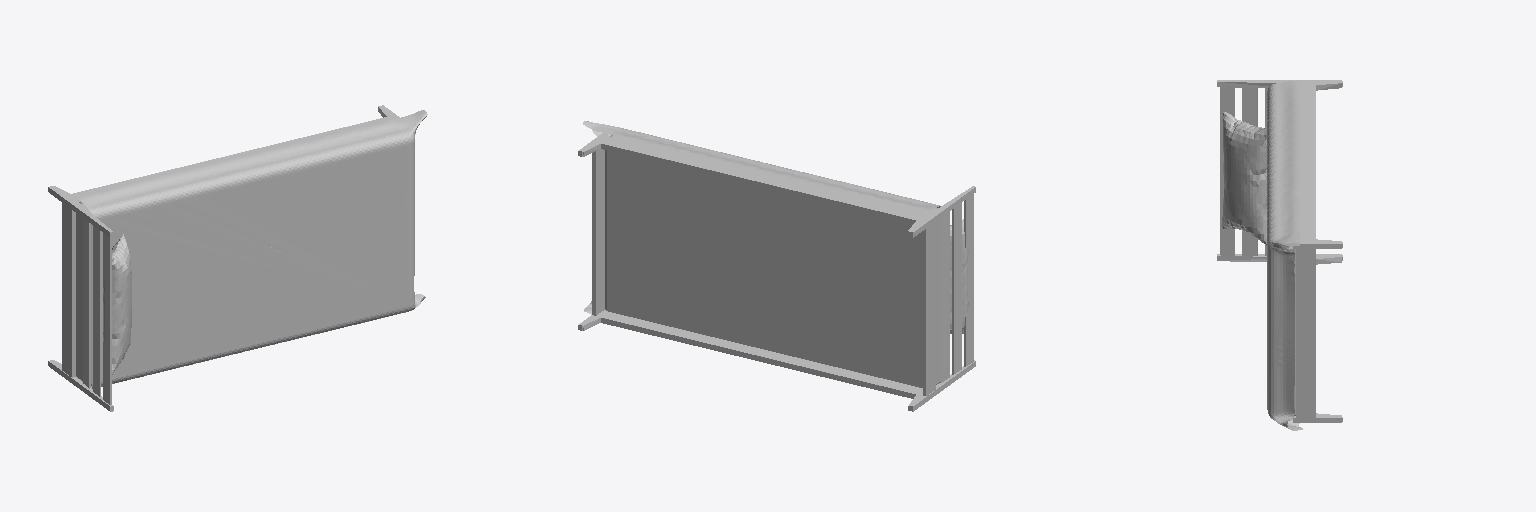
Rendered from Bed.obj.
3 views of the same model, side by side, from view 1: azimuth 30°, elevation 25°; view 2: azimuth 150°, elevation 25°; view 3: azimuth 270°, elevation 25° (orthographic).
Size of the model in its own units: 2.01 by 1.04 by 0.6149.